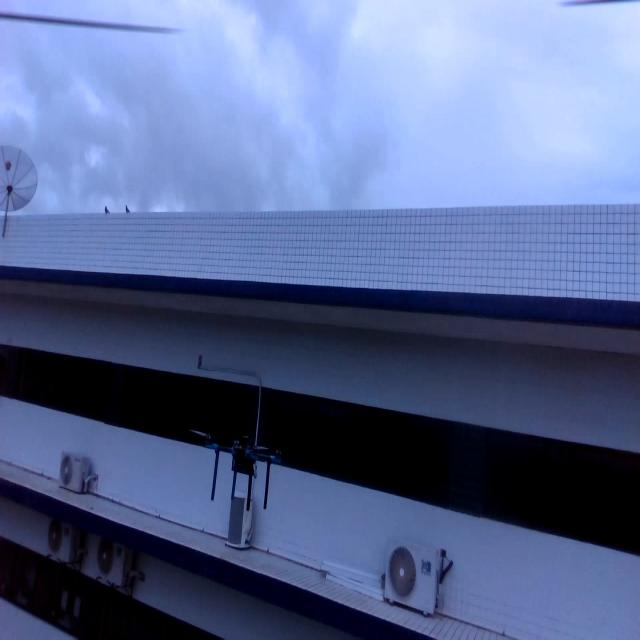-uav-: (182, 388, 299, 536)
